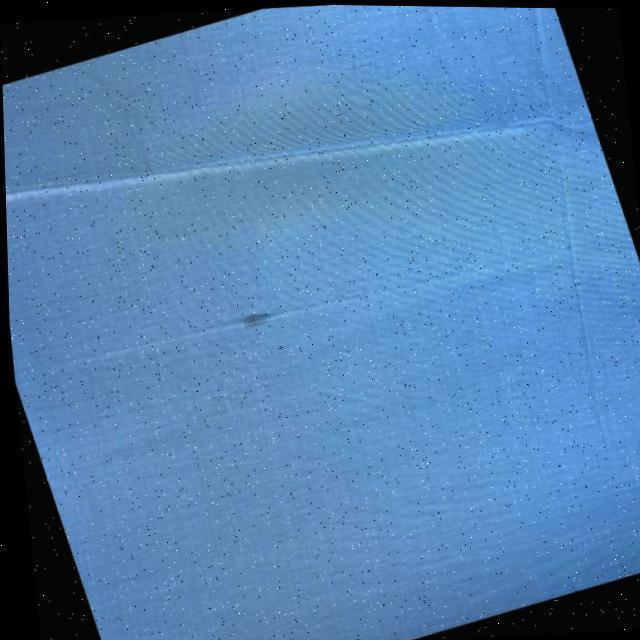broken_yarn: (4, 107, 568, 205)
pulled_or_thick_thread: (562, 178, 609, 442)
